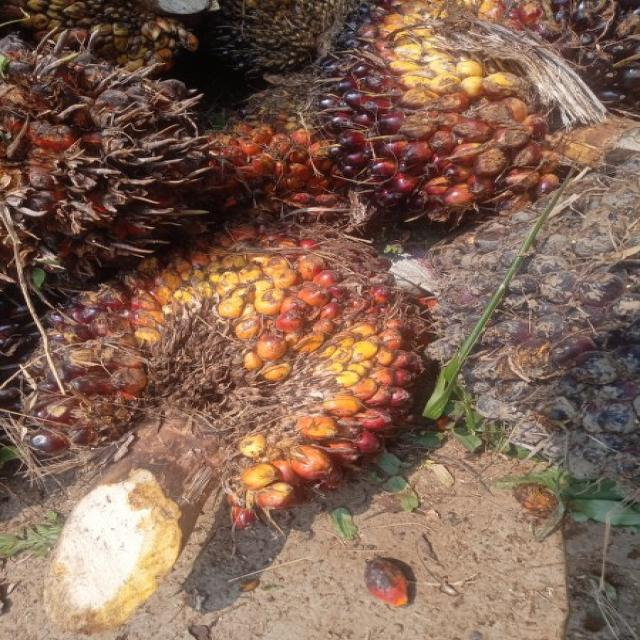fraksi 1: (16, 213, 557, 561)
